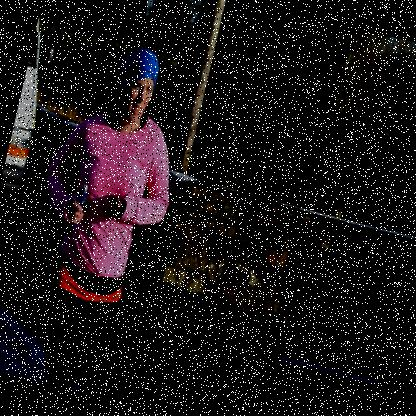Car: (0, 31, 59, 240)
